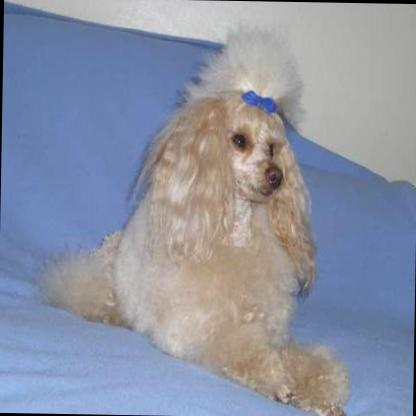miniature_poodle: (27, 10, 357, 416)
